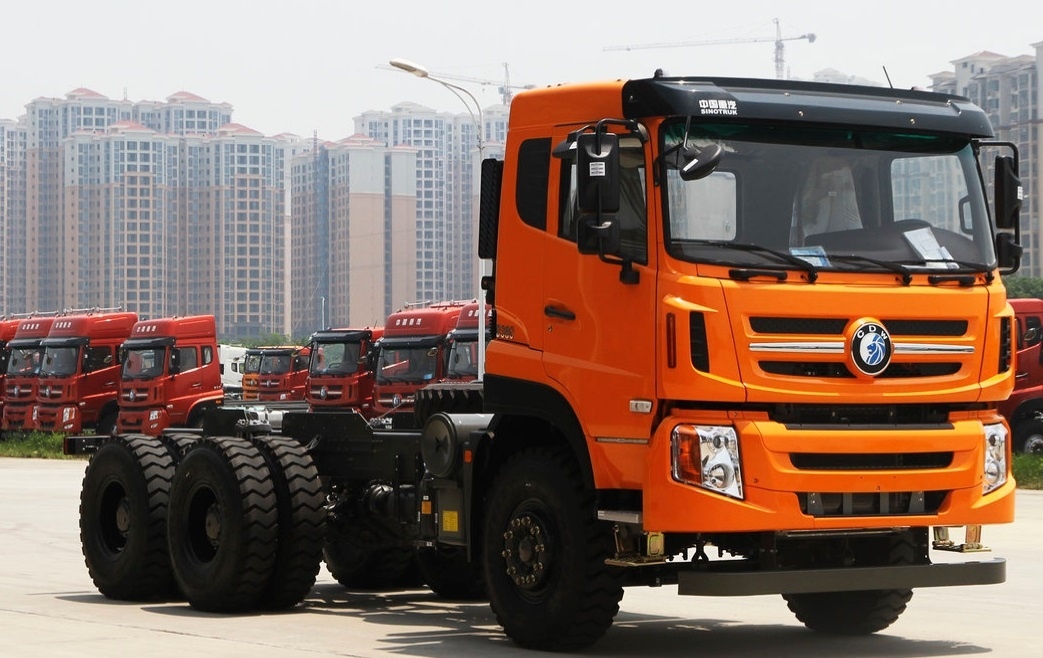heavy truck: (78, 63, 1014, 658)
